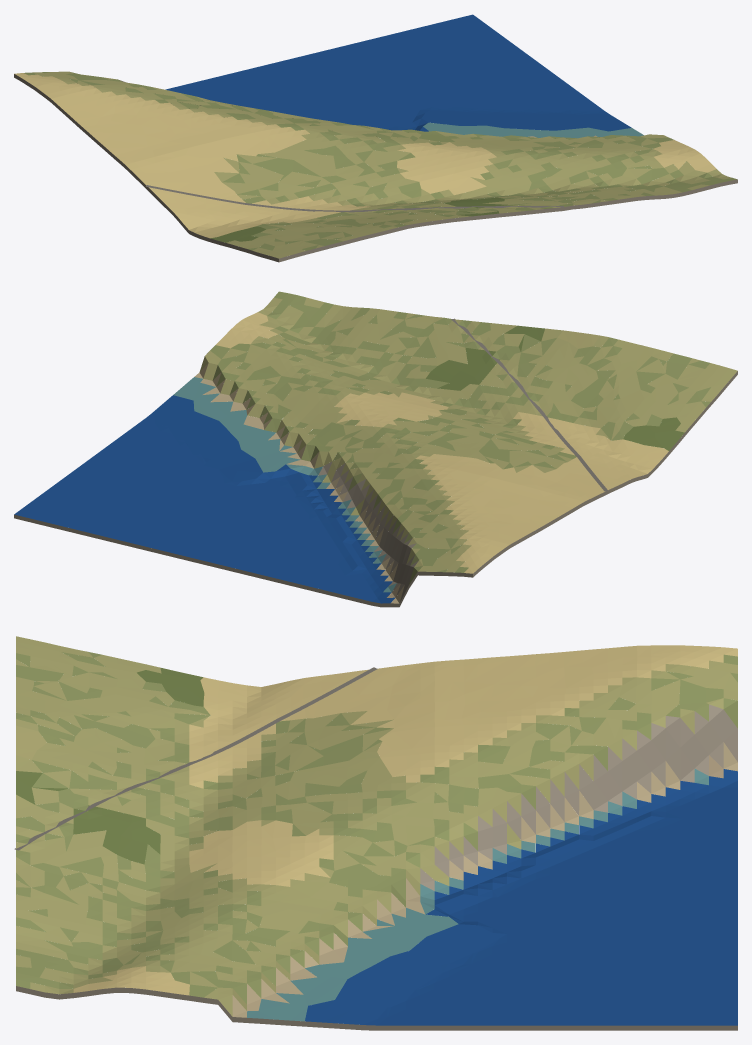
The model's file is parca_+12_-1-uzak.glb.
The picture shows the model from 3 angles, top to bottom: view 1: azimuth 30°, elevation 25°; view 2: azimuth 150°, elevation 25°; view 3: azimuth 270°, elevation 25°; orthographic projection. The views are drawn at different scales.
Parts seen in each view (by area): view 1: parca_+12_-1_arazi_uzak, parca_+12_-1_yollar_uzak; view 2: parca_+12_-1_arazi_uzak, parca_+12_-1_yollar_uzak; view 3: parca_+12_-1_arazi_uzak, parca_+12_-1_yollar_uzak.
Part boxes in pixels (x1=…): parca_+12_-1_arazi_uzak: x1=14, y1=14, x2=737, y2=262; parca_+12_-1_yollar_uzak: x1=146, y1=185, x2=563, y2=212; parca_+12_-1_arazi_uzak: x1=14, y1=291, x2=737, y2=607; parca_+12_-1_yollar_uzak: x1=451, y1=318, x2=607, y2=491; parca_+12_-1_arazi_uzak: x1=16, y1=636, x2=737, y2=1030; parca_+12_-1_yollar_uzak: x1=14, y1=667, x2=377, y2=850.
Size of the model in its own units: 1004 by 141 by 1003.
